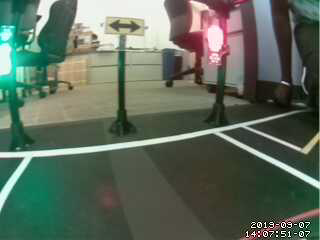Left_Right_sign: (104, 15, 150, 35)
Traffic_light_green: (1, 28, 15, 77)
Traffic_light_red: (208, 21, 224, 64)
